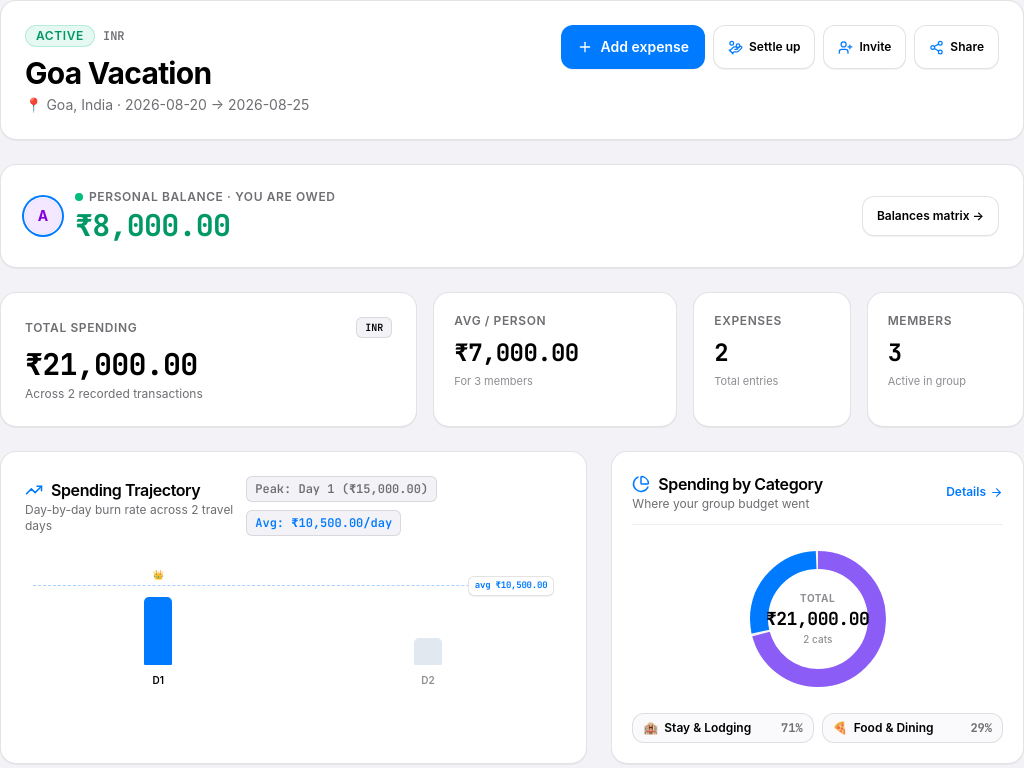
Empirical Challenge: Trip Overview Hub Navigation & Modals › 4. Settle Up Dialog Triggers and Interactions › validates and rejects overpayment amount in settlement dialog
Click the button with aria-label "Settle debts": (764, 47) [713,25,816,69]
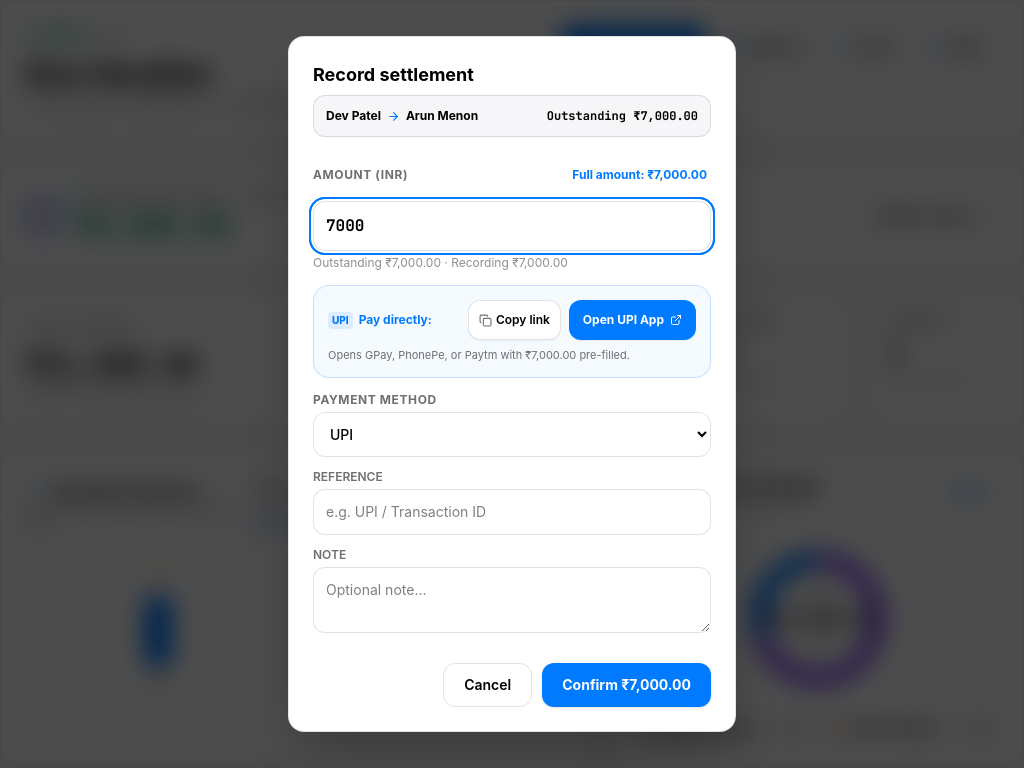
Clear the field labelled "Amount (INR)": (512, 226) [313,201,711,251]
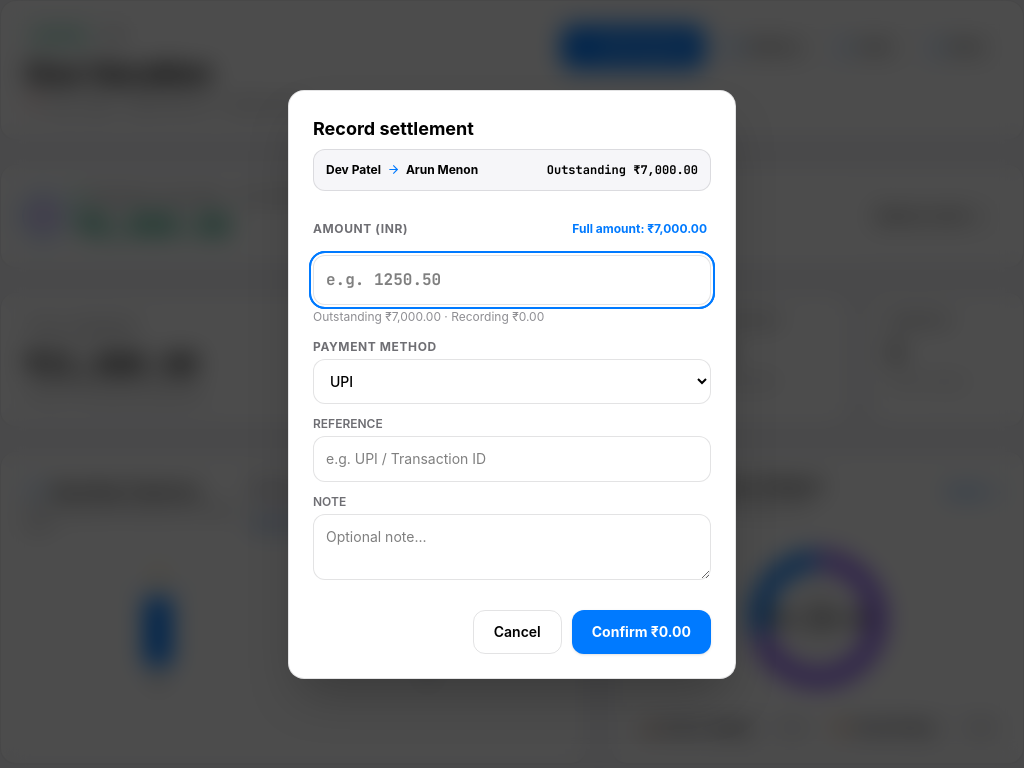
In the field labelled "Amount (INR)": (512, 280) [313,254,711,304], type "999999"
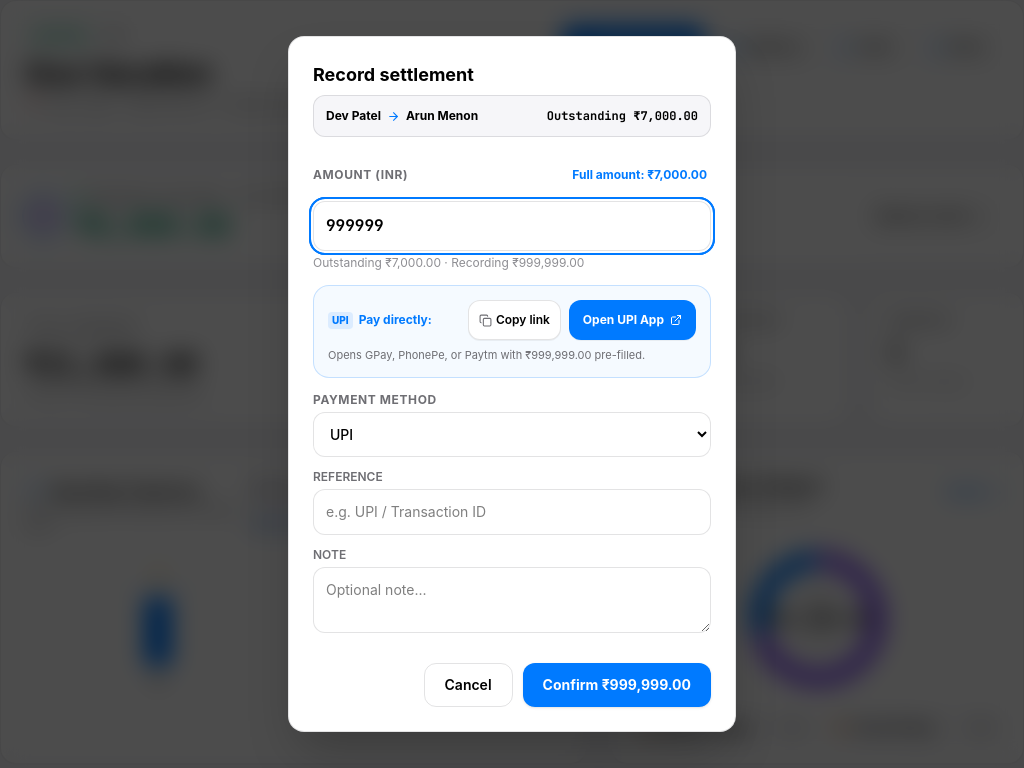
Click the button "Confirm ₹999,999.00": (617, 685) [523,663,711,707]
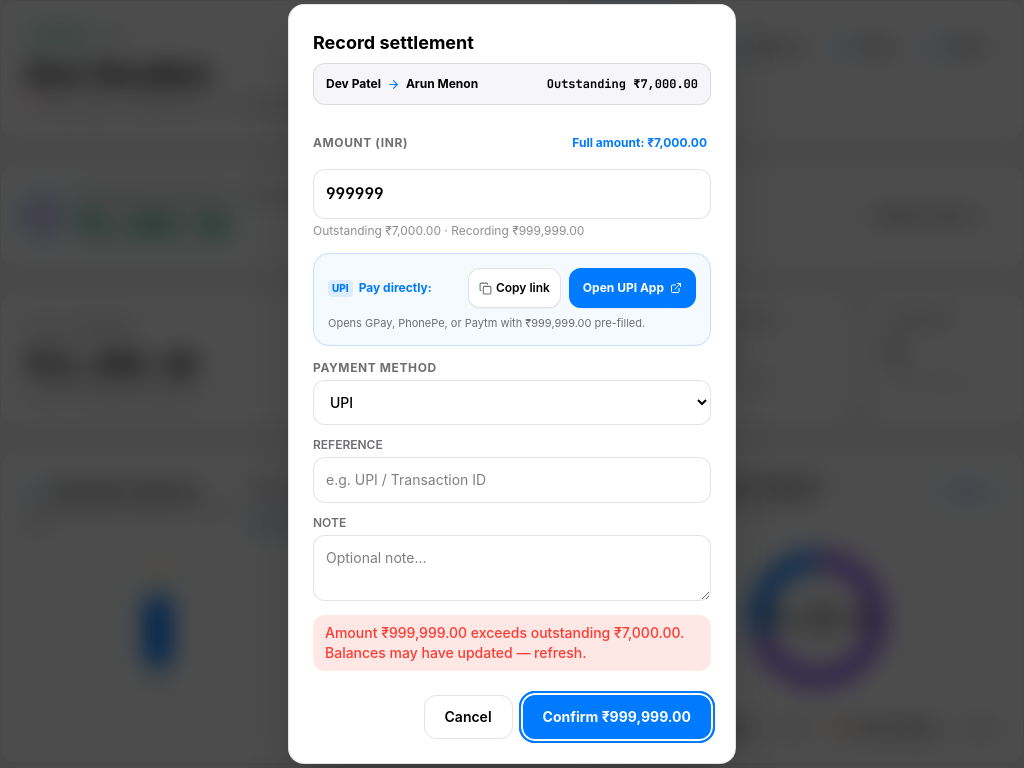
Check: the text "exceeds outstanding" is shown, box [325,624,684,661]
